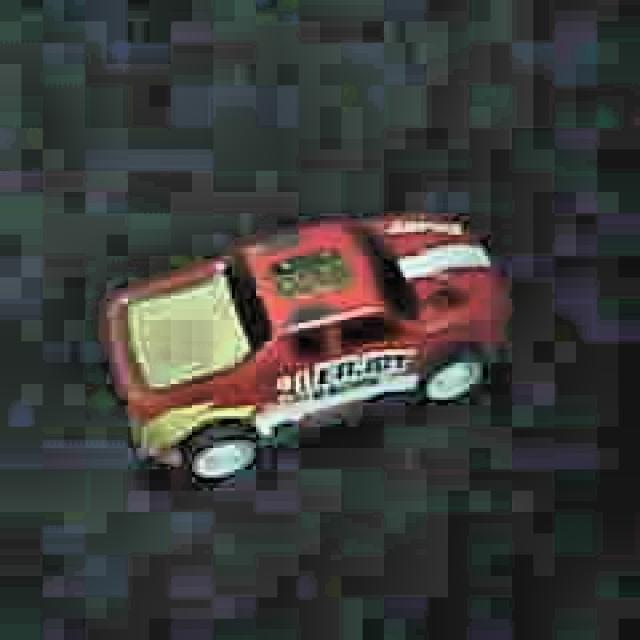car: (96, 205, 508, 505)
